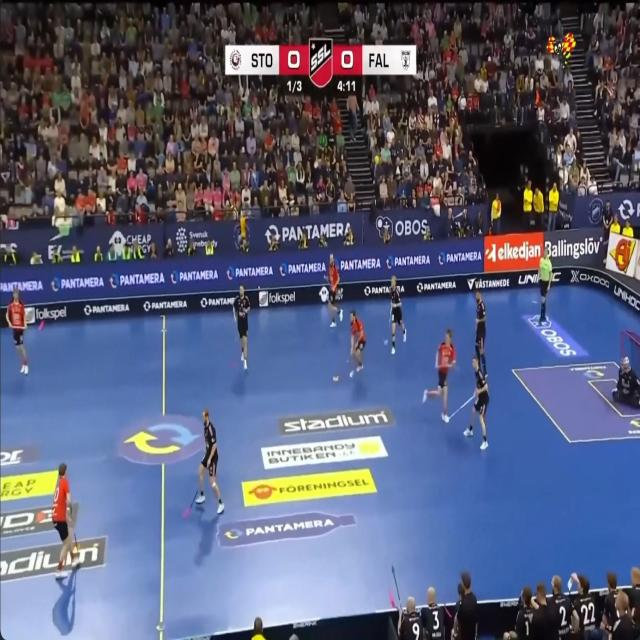Balls: (333, 375, 339, 382)
player: (52, 463, 79, 579), (423, 329, 456, 422), (195, 409, 224, 512), (464, 357, 489, 450), (6, 288, 28, 374), (570, 573, 597, 637), (503, 585, 533, 639), (549, 575, 573, 639), (612, 356, 640, 407), (234, 285, 250, 369), (420, 587, 445, 639), (390, 276, 406, 354), (538, 248, 553, 323), (327, 255, 342, 327), (398, 597, 423, 639), (601, 573, 618, 634), (350, 311, 365, 377), (475, 290, 486, 376)
stick: (449, 394, 475, 418), (182, 488, 199, 517), (392, 565, 400, 605), (73, 532, 79, 552), (443, 605, 452, 618), (232, 306, 236, 323), (390, 307, 392, 327), (384, 339, 387, 345)
